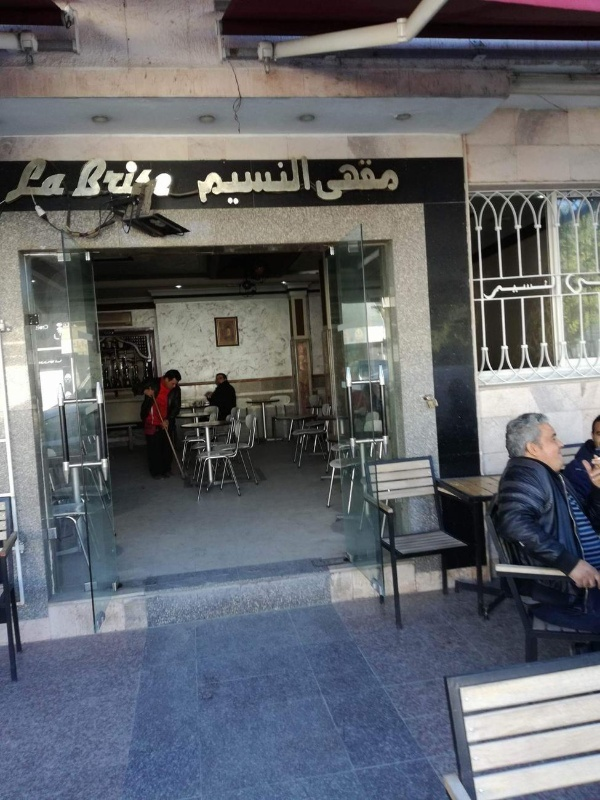text: (209, 155, 224, 207), (225, 155, 240, 207), (241, 155, 256, 207), (257, 155, 272, 207), (273, 155, 288, 207), (289, 155, 304, 207), (17, 157, 32, 205), (33, 157, 48, 205), (49, 157, 64, 205), (81, 157, 96, 202), (97, 157, 112, 202), (113, 157, 128, 202), (129, 157, 144, 202), (145, 157, 160, 202), (321, 158, 336, 202), (337, 158, 352, 202), (353, 158, 368, 202), (369, 158, 384, 202), (385, 158, 400, 202), (196, 155, 208, 207), (161, 157, 174, 202), (5, 157, 16, 205), (71, 157, 80, 202), (497, 276, 512, 303), (513, 276, 528, 303), (529, 276, 544, 303), (577, 271, 592, 296), (305, 155, 312, 207), (483, 276, 496, 303), (545, 276, 558, 303), (564, 271, 576, 296), (316, 158, 320, 202), (593, 271, 600, 296), (65, 157, 67, 205)
